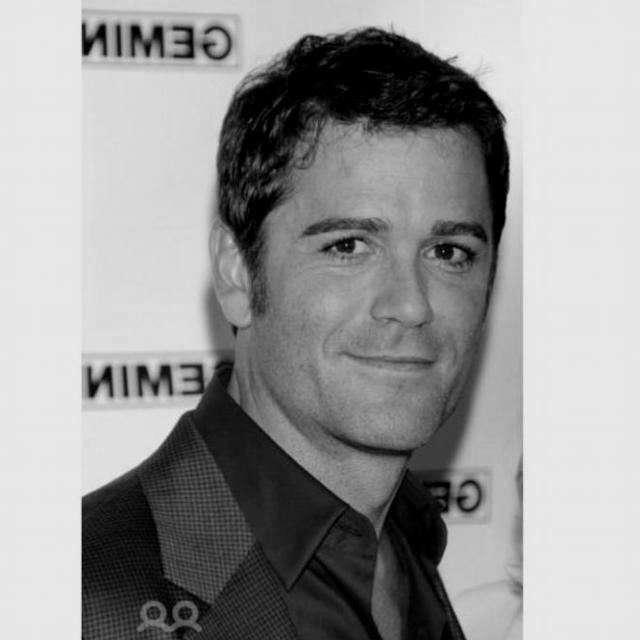real: (237, 54, 512, 452)
